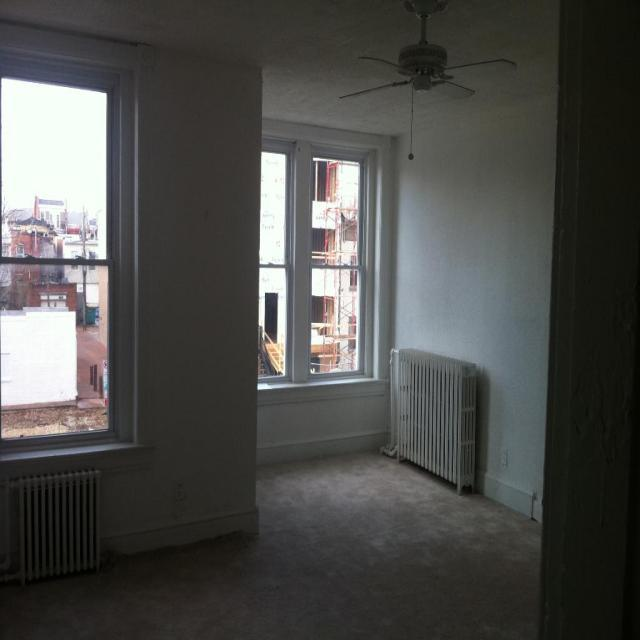fan_off: (336, 1, 520, 106)
